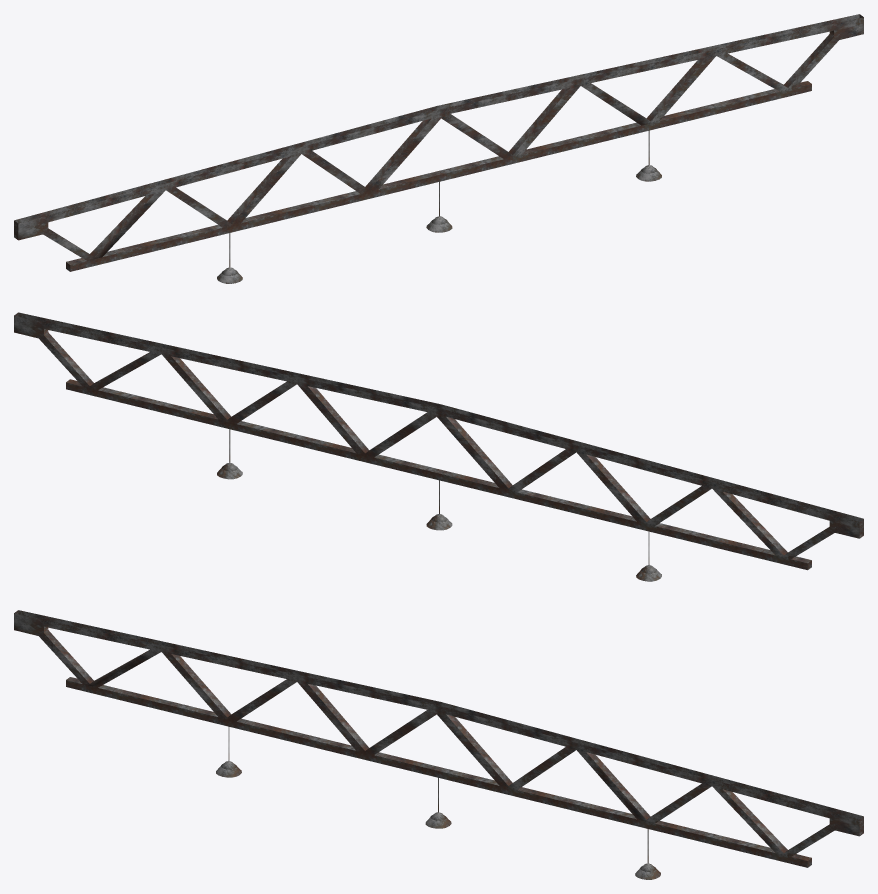
The model's file is Factory1RoofBase01.FBX.
The picture shows the model from 3 angles, top to bottom: view 1: azimuth 30°, elevation 25°; view 2: azimuth 150°, elevation 25°; view 3: azimuth 330°, elevation 25°; orthographic projection.
Parts seen in each view (by area): view 1: Factory1RoofBase01; view 2: Factory1RoofBase01; view 3: Factory1RoofBase01.
Boxes of the visible parts, bbox=[...] form: Factory1RoofBase01: bbox=[14, 14, 863, 283]; Factory1RoofBase01: bbox=[14, 312, 863, 581]; Factory1RoofBase01: bbox=[14, 610, 863, 879].
Size of the model in its own units: 1760 by 244 by 46.07.
